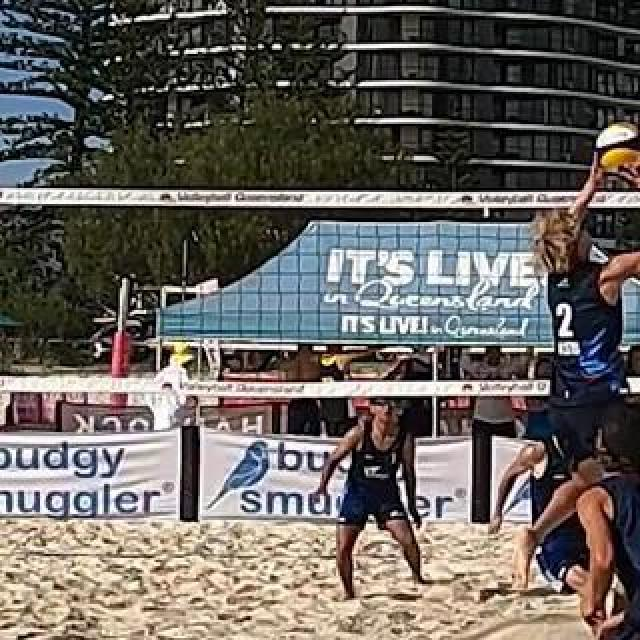volleyball: (598, 122, 640, 170)
